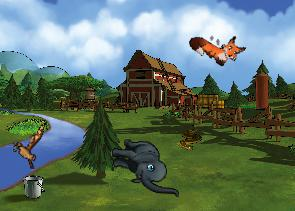eagle: (11, 122, 48, 170)
elephant: (109, 138, 181, 197)
fox: (186, 17, 248, 74)
